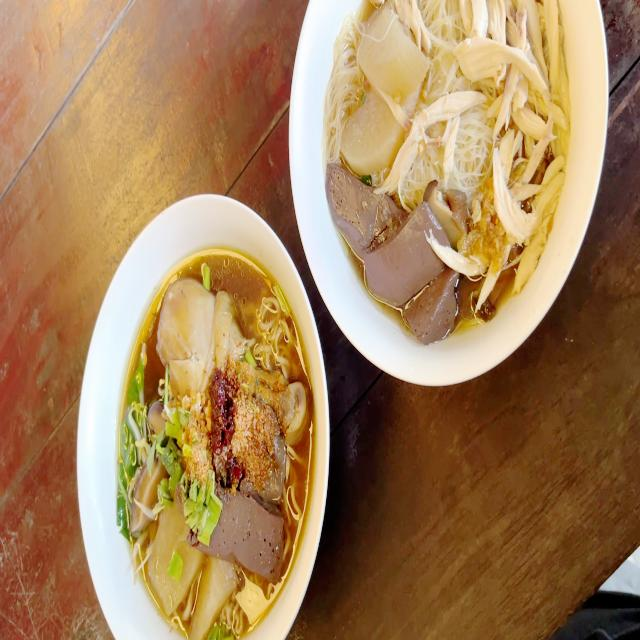boiled_chicken_blood_jelly: (366, 211, 442, 311), (221, 487, 284, 581), (329, 172, 401, 252), (414, 276, 457, 344)
chicken_drumstick: (160, 280, 310, 440)
chicken_shredded: (456, 0, 563, 259), (390, 75, 478, 186), (453, 39, 541, 88), (491, 143, 530, 242), (475, 219, 521, 301), (501, 0, 525, 133), (440, 246, 496, 282), (514, 230, 544, 288), (397, 0, 427, 52), (541, 0, 557, 95), (443, 106, 452, 186)
daikon_radish: (358, 12, 432, 122), (156, 496, 198, 617), (345, 89, 403, 175), (202, 561, 233, 638)
noodle: (324, 0, 564, 300), (125, 274, 313, 614)
